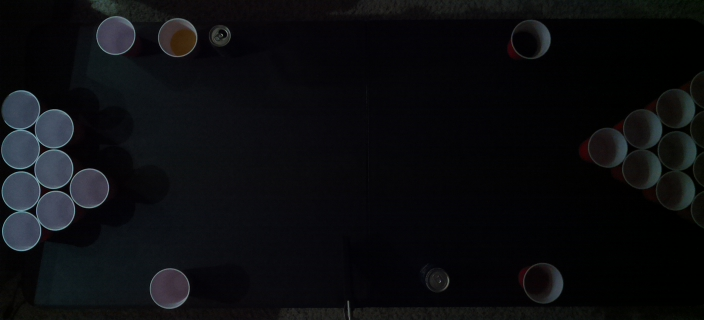active bp cup: (32, 148, 75, 190), (586, 126, 628, 168), (621, 108, 663, 150), (33, 108, 75, 149), (34, 189, 75, 231), (1, 210, 42, 252), (654, 88, 696, 129), (654, 170, 696, 211), (620, 149, 662, 190), (656, 130, 697, 171), (68, 168, 109, 208), (1, 89, 41, 130), (1, 171, 41, 211), (1, 130, 40, 170), (688, 70, 703, 111), (689, 108, 703, 150), (691, 150, 703, 189), (690, 192, 703, 228)
can: (422, 264, 451, 293), (206, 22, 232, 47)
drink cup: (521, 261, 564, 304), (509, 18, 552, 59), (156, 16, 198, 57)
inactive bp cup: (148, 265, 190, 309), (93, 15, 136, 55)
